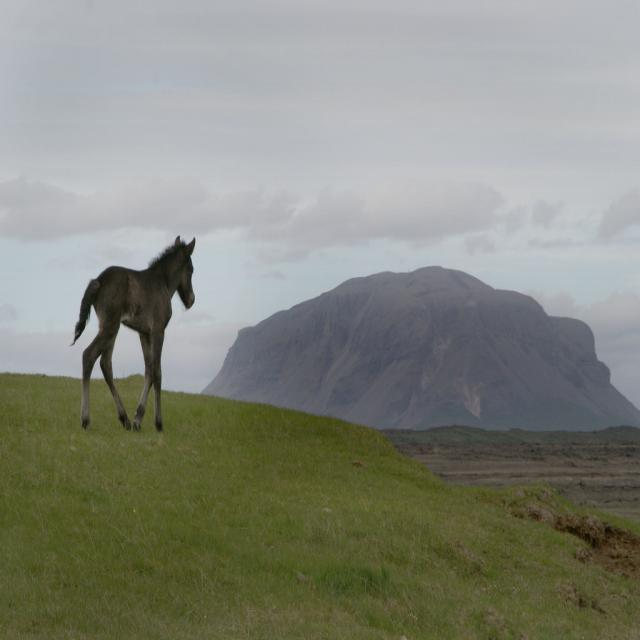Horse: (64, 239, 194, 437)
